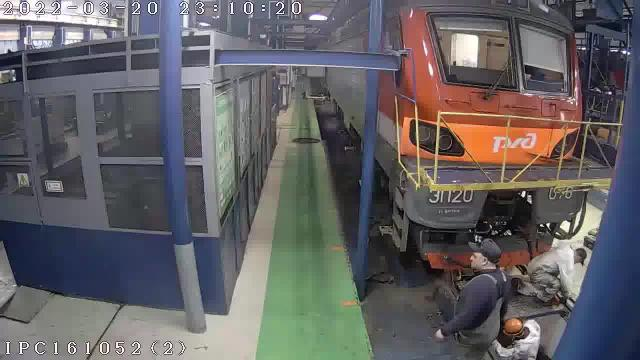person: (434, 239, 510, 354), (518, 243, 586, 304), (492, 318, 540, 359)
train: (376, 0, 586, 269)
